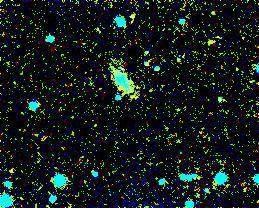star: (196, 27, 226, 57)
